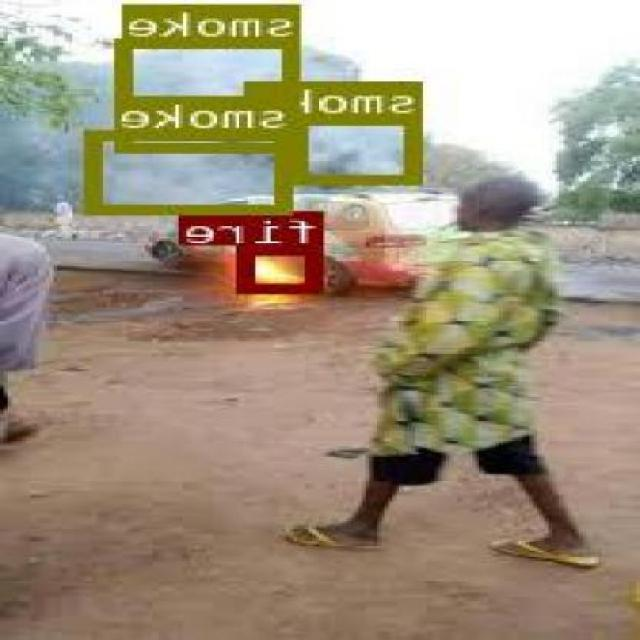Fire: (242, 244, 326, 290)
Smoke: (121, 36, 302, 150), (89, 129, 294, 214), (294, 114, 426, 182)
